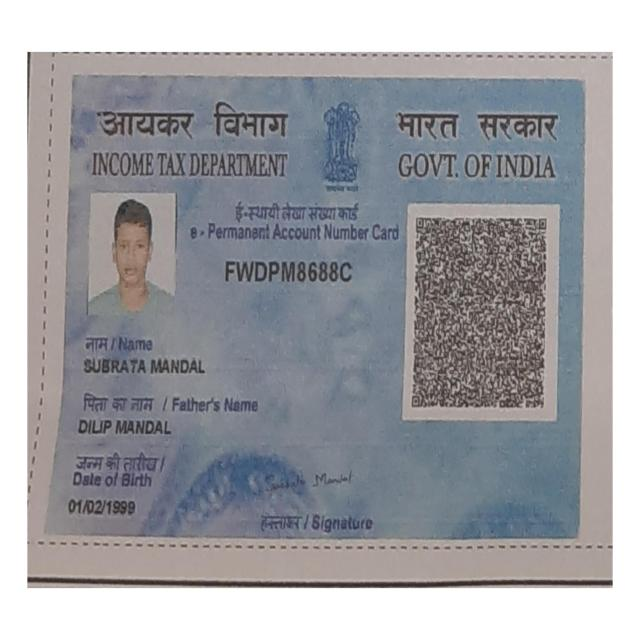pan_card: (53, 76, 580, 537)
